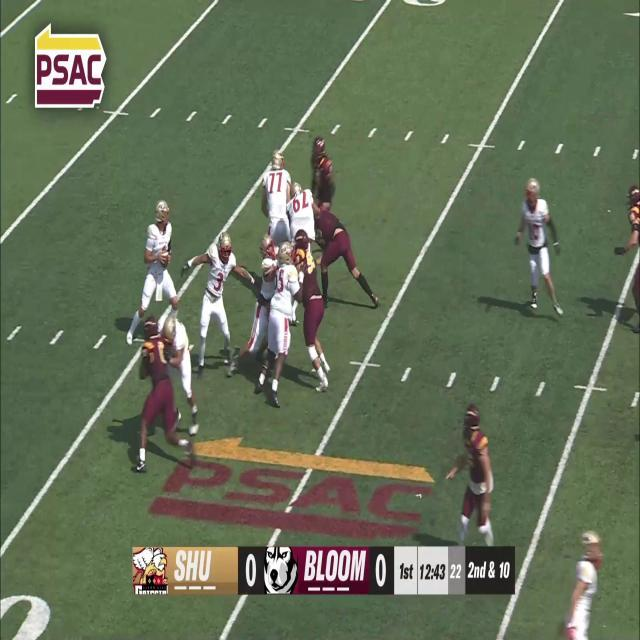football: (161, 248, 169, 268)
